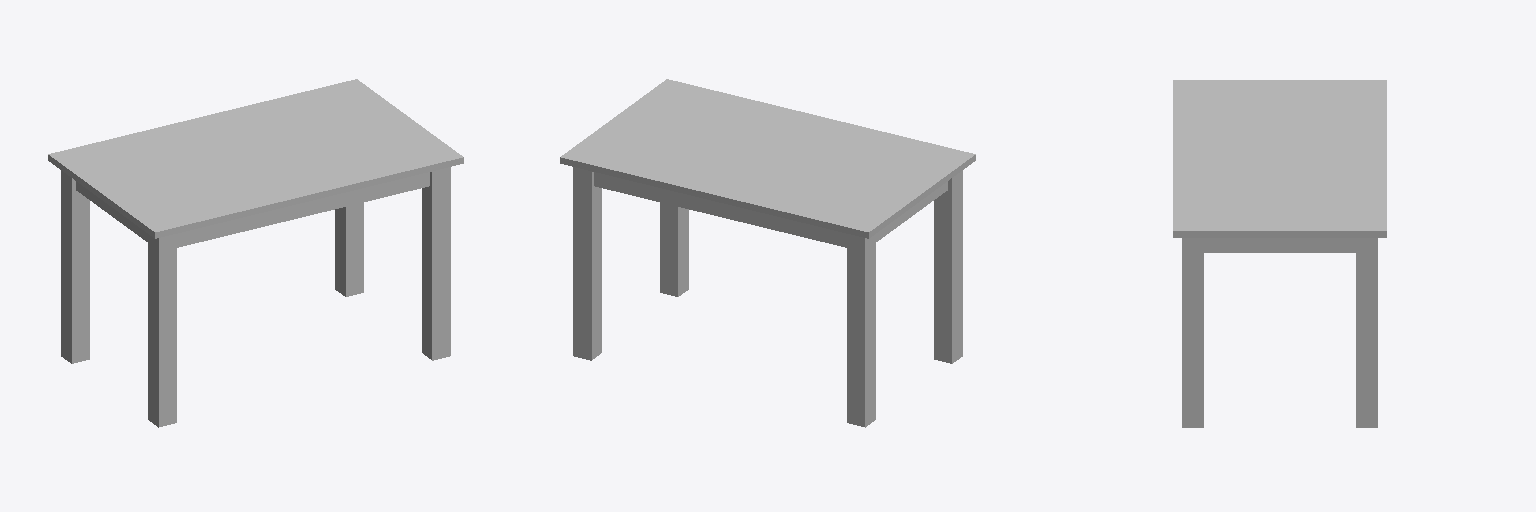
File: EverythingLibrary_Furnishings_Tamble.obj
3 renders of one model, left to right at view 1: azimuth 30°, elevation 25°; view 2: azimuth 150°, elevation 25°; view 3: azimuth 270°, elevation 25°, orthographic.
Visible parts, largest first — view 1: WoodenTable_Mesh.1478; view 2: WoodenTable_Mesh.1478; view 3: WoodenTable_Mesh.1478.
Part boxes in pixels (x1,y1,x2,y2): WoodenTable_Mesh.1478: (48,79,463,427); WoodenTable_Mesh.1478: (560,79,975,427); WoodenTable_Mesh.1478: (1173,80,1386,427).
Size of the model in its own units: 1.5 by 0.93 by 0.8995.